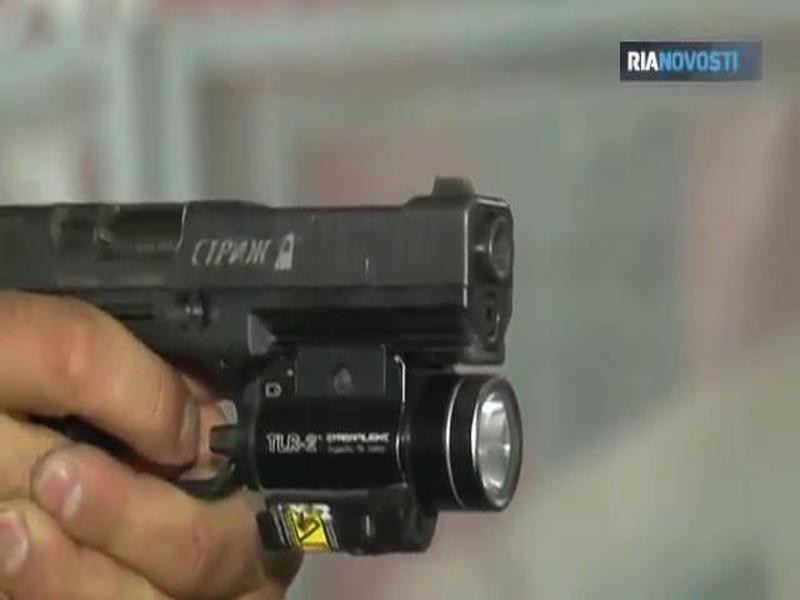Pistola: (1, 157, 549, 592)
